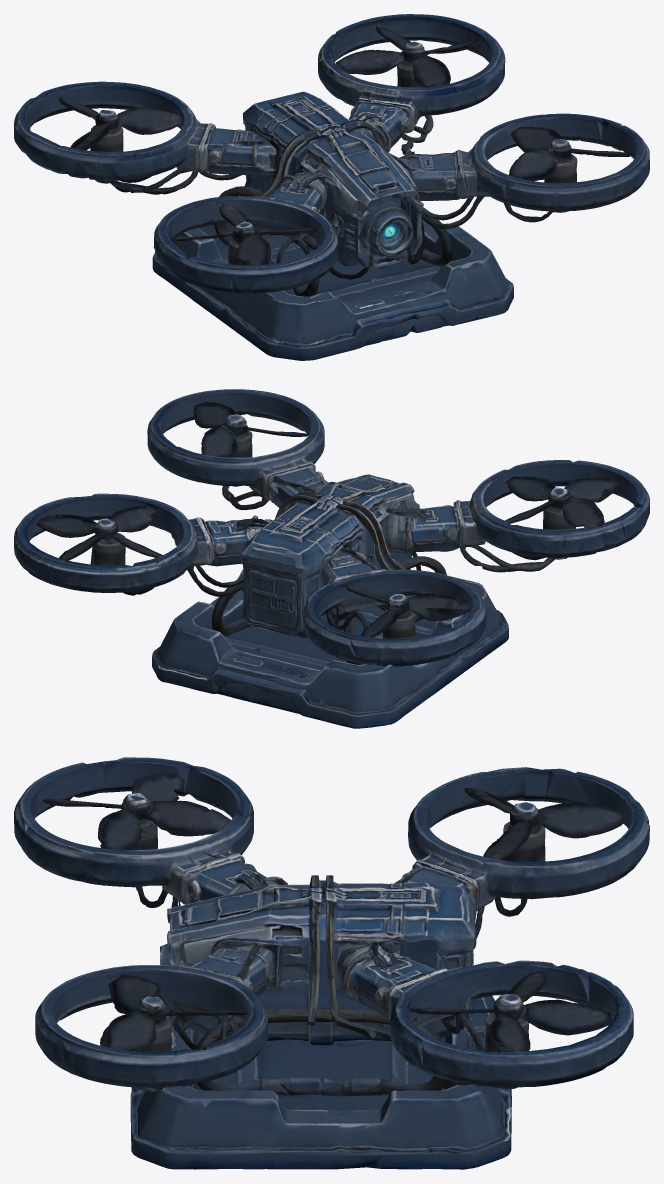
The model's file is objet-drone.glb.
The picture shows the model from 3 angles, top to bottom: view 1: azimuth 30°, elevation 25°; view 2: azimuth 150°, elevation 25°; view 3: azimuth 270°, elevation 25°; orthographic projection. The views are drawn at different scales.
Size of the model in its own units: 0.9789 by 0.3064 by 0.8734.
1 material, 1 textured.
